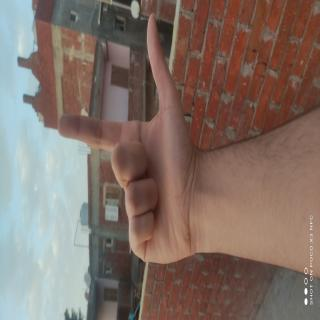LAAM: (20, 121, 139, 320)
